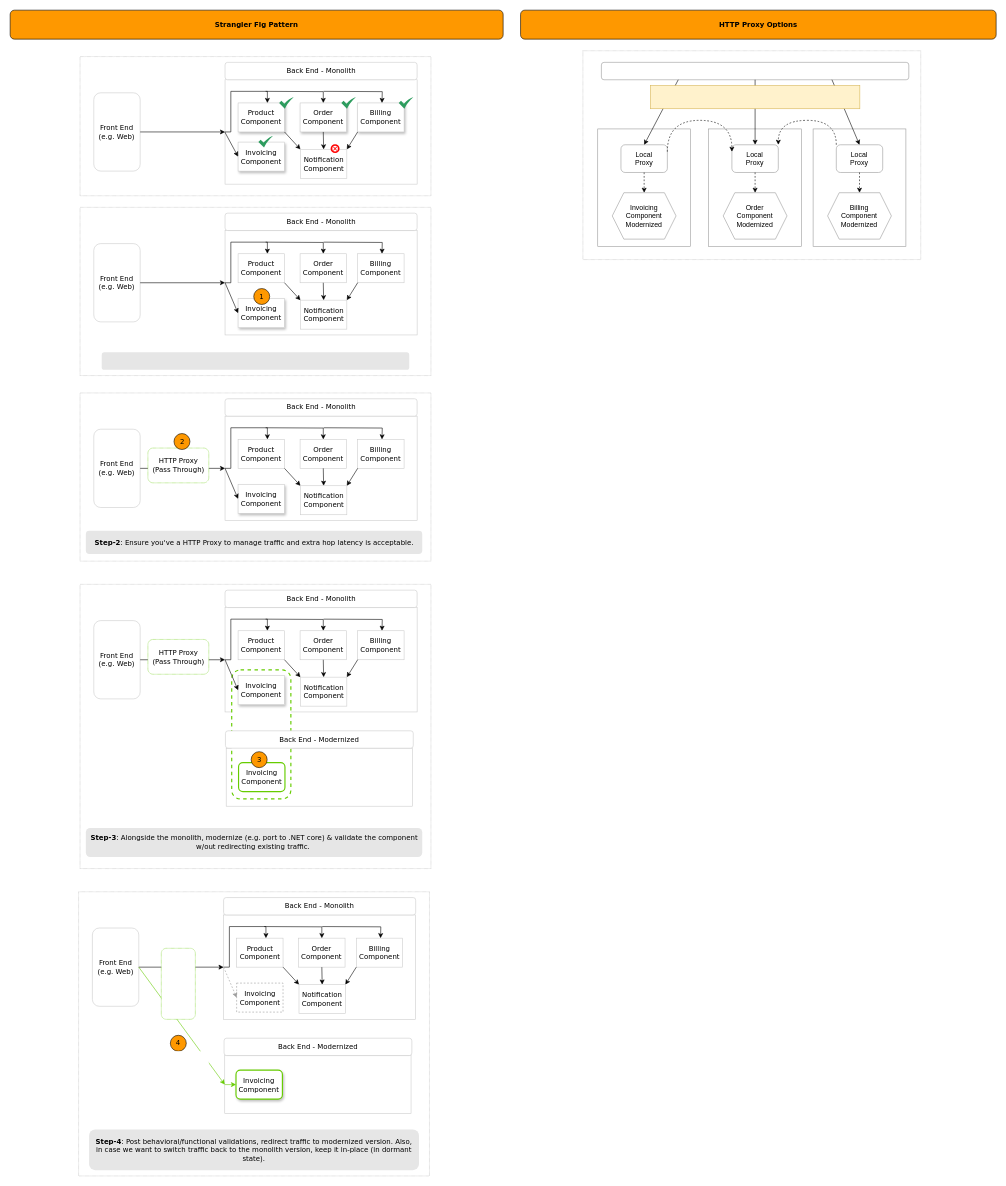
The diagram is 1006 pixels wide and 1186 high, and some of its shapes have lost their labels. Each missing label, with the centre of its shape:
Control Plane for Service Mesh: the point at 755,71
HTTP Proxy: the point at 178,983
Inbound Call Redirected: the point at 187,1059
Pushes service-2-service communication configurations down to Local Proxies: the point at 755,97
Step-1 :Identify component(s) to move. Here, we will move Invoicing component: the point at 255,360
